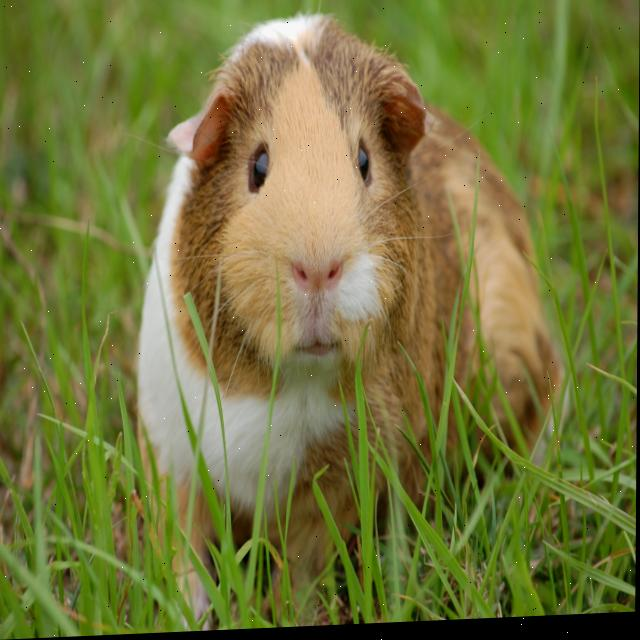guinea pig: (137, 9, 560, 632)
